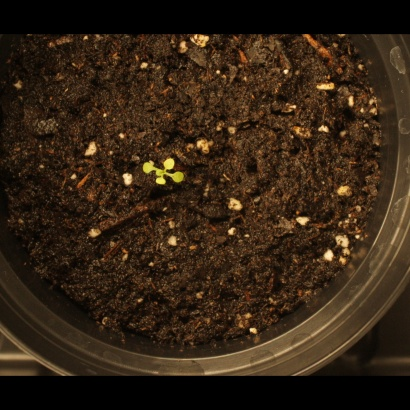leaf: (132, 155, 155, 178), (168, 167, 191, 190), (162, 148, 185, 171), (149, 176, 172, 199), (151, 163, 174, 186)
